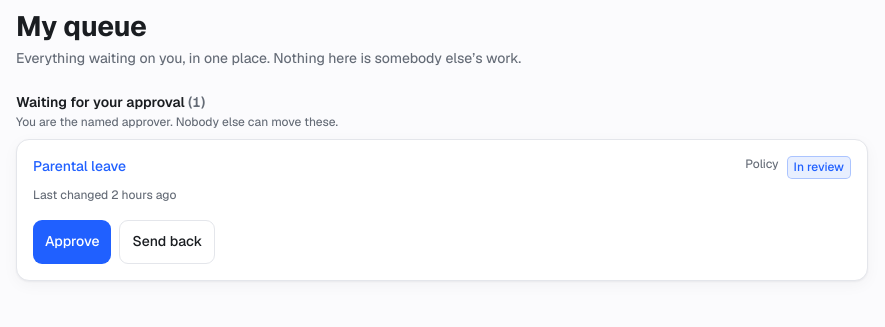
Queue › says the server's own refusal out loud
The width and height of the screenshot is (885, 327).
What coordinates should you click on to do the following:
click the button "Approve"
I would click on:
 (72, 242)
Its box is x1=33 y1=220 x2=112 y2=264.
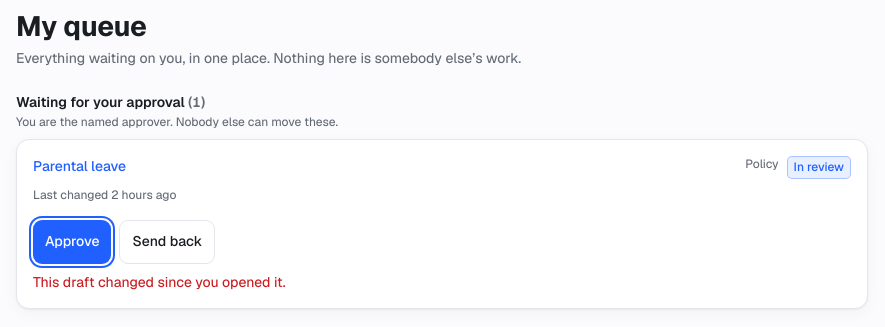
Expected: the message reads "This draft changed since you opened it.", x1=33 y1=273 x2=286 y2=291
